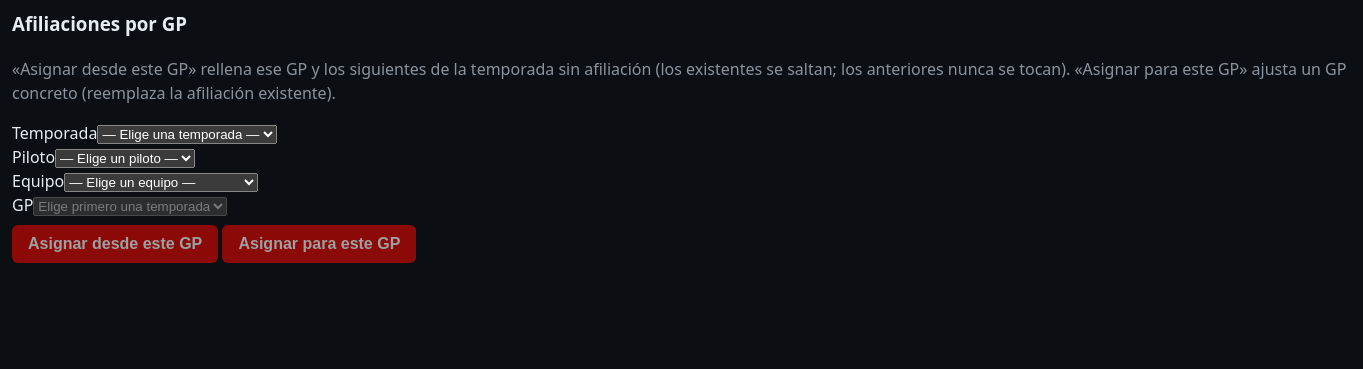
Test: AffiliationsPanel › muestra el estado vacío de afiliaciones (temporada elegida, sin afiliaciones)
The image size is (1363, 369).
Select "Temporada 2026 (2026)" in the dropdown labelled "Temporada" at (187,134), box x1=97 y1=124 x2=277 y2=144
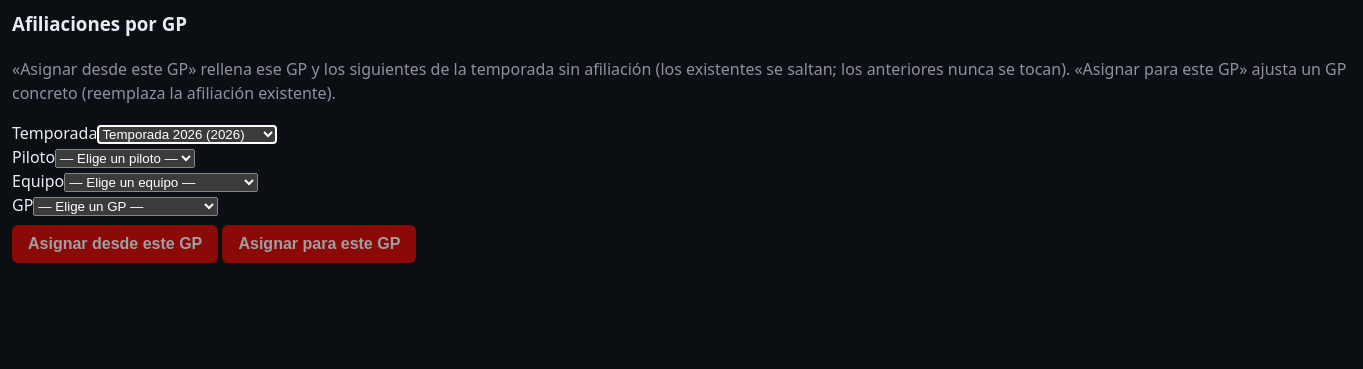
Select "Francesco Bagnaia" in the dropdown labelled "Piloto" at (125,158), box x1=55 y1=148 x2=195 y2=168
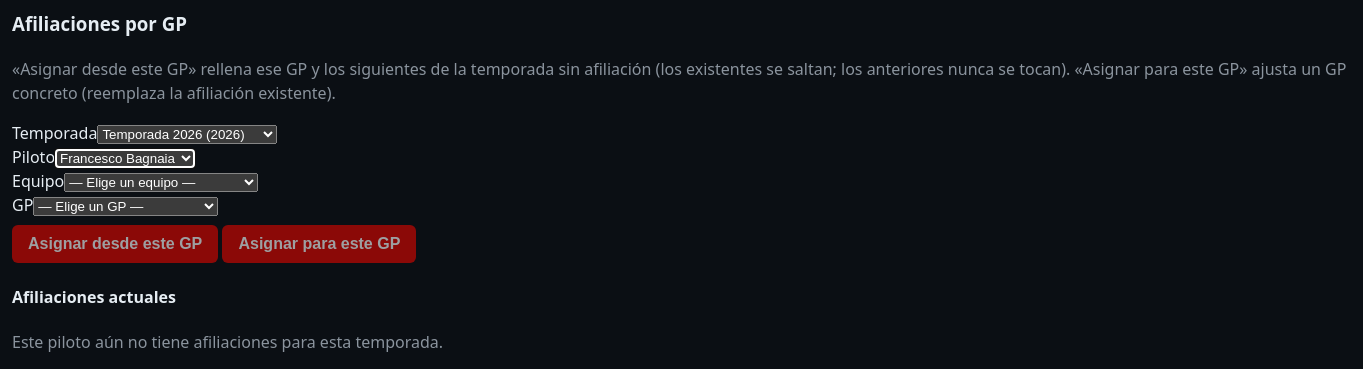
Now the text "Este piloto aún no tiene afiliaciones para esta temporada." is shown, box x1=12 y1=331 x2=443 y2=353
